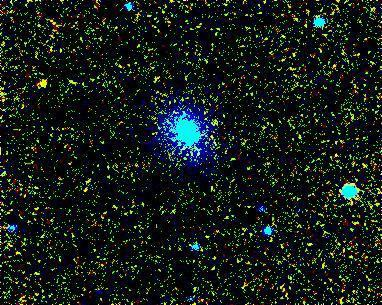star: (28, 67, 58, 97)
